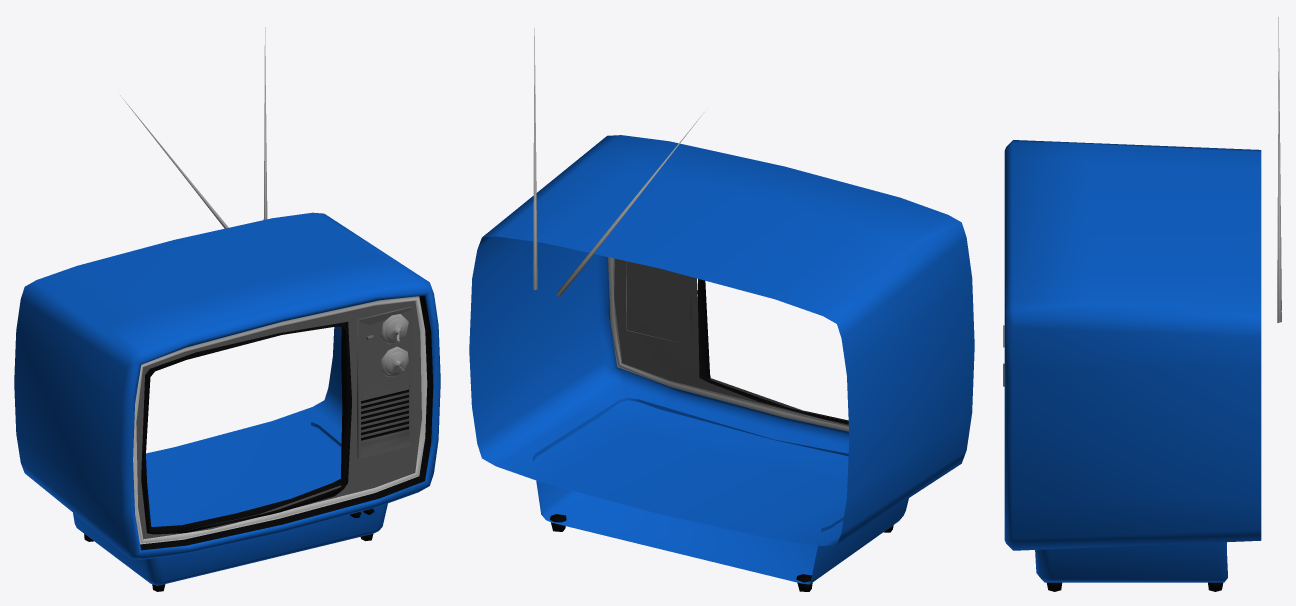
Rendered from bluetv-B_17jn6K.obj.
3 views of the same model, side by side, from view 1: azimuth 30°, elevation 25°; view 2: azimuth 150°, elevation 25°; view 3: azimuth 270°, elevation 25° (orthographic). The views are drawn at different scales.
Visible parts, largest first — view 1: tv_Retro_TV; view 2: tv_Retro_TV; view 3: tv_Retro_TV.
Part boxes in pixels (left/top/right/bottom): tv_Retro_TV: left=14, top=27, right=440, bottom=591; tv_Retro_TV: left=469, top=28, right=974, bottom=591; tv_Retro_TV: left=1003, top=17, right=1281, bottom=591.
Bounding box in the file's own units: 110 × 150 × 70.63.
